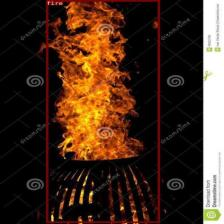fire: (46, 0, 159, 223)
